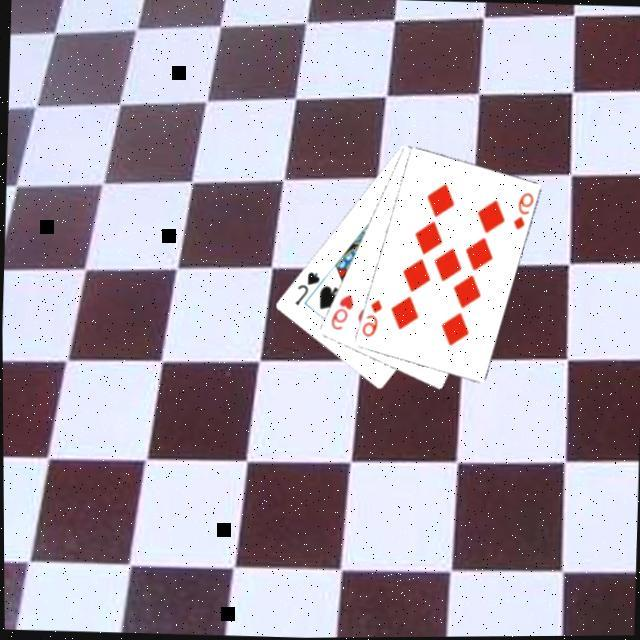6H: (328, 290, 357, 332)
9D: (359, 296, 386, 340), (511, 189, 536, 233)
JS: (292, 266, 323, 308)
